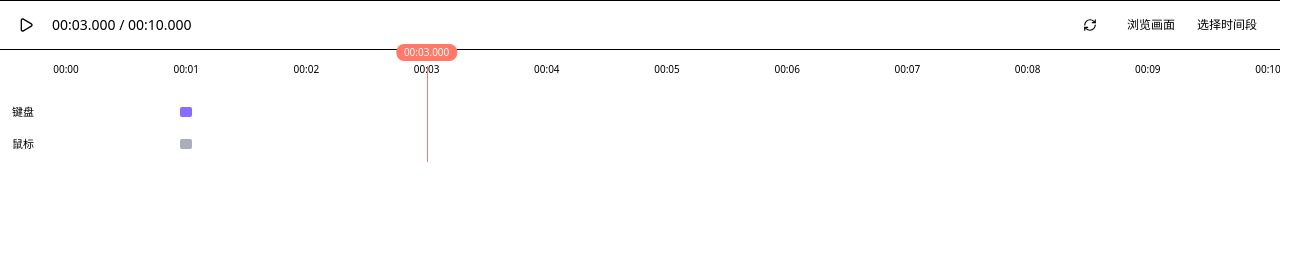
it: 双轨时间线模式隔离 › 选择时间段后仍能点击播放，并自动回到浏览模式
What coordinates should you click on to do the following:
click the button "选择时间段"
I would click on:
 (1227, 25)
Its box is [1186,9,1268,41].
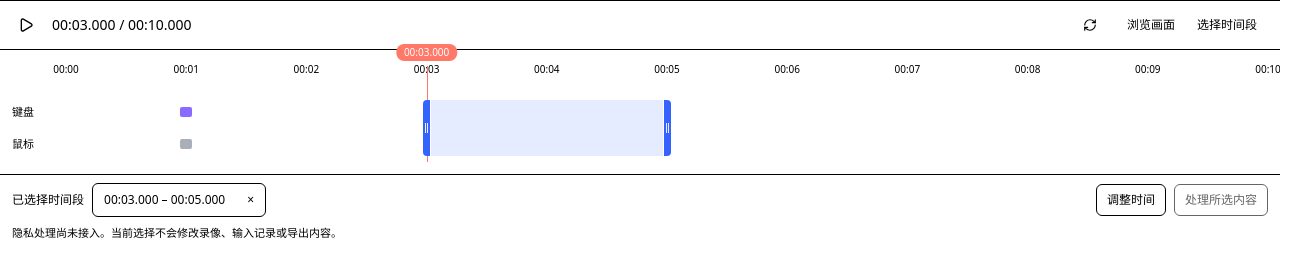
What coordinates should you click on to do the following:
click the button named "播放回看"
I would click on:
 (26, 25)
Its box is [12,11,40,39].
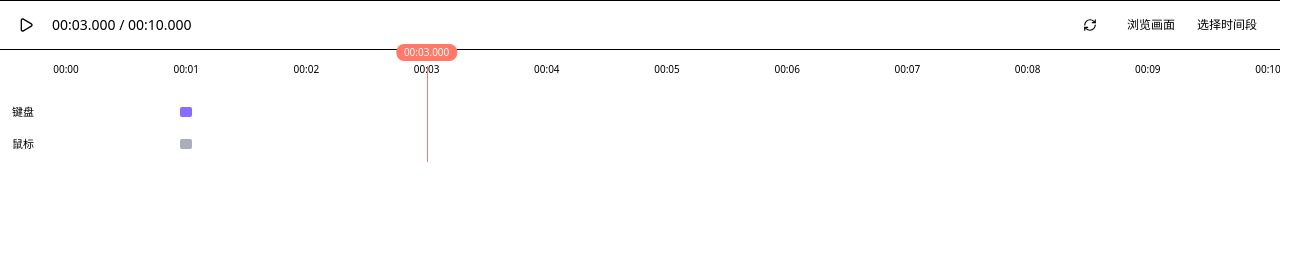
expect the slider labelled "片段起点" is gone: met
